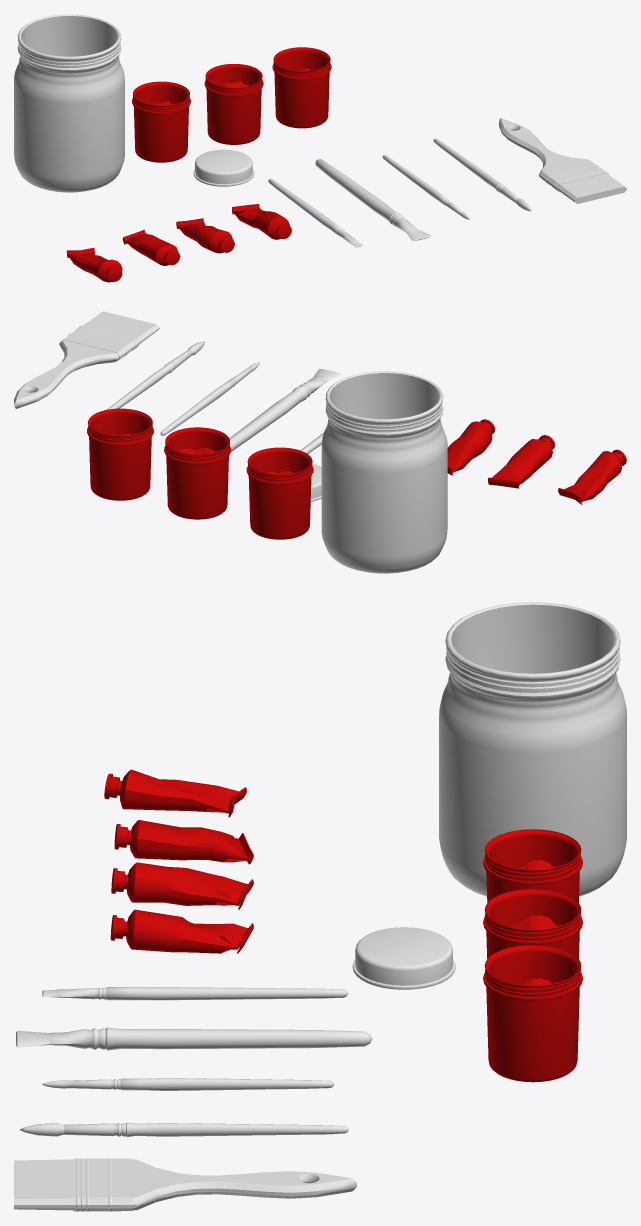
File: Painting Tools.fbx
3 views of the same model, one above another, from view 1: azimuth 30°, elevation 25°; view 2: azimuth 150°, elevation 25°; view 3: azimuth 270°, elevation 25° (orthographic). The views are drawn at different scales.
Parts seen in each view (by area): view 1: Plastic_Can, Can_Guash_3, Can_Guash_2, Can_Guash_1, Brush_5, Can_Guash_Top, Brush_2, Tube_3, Tube_2, Tube_1, Tube_4, Brush_4 (+2 smaller); view 2: Plastic_Can, Can_Guash_1, Can_Guash_2, Can_Guash_3, Brush_5, Brush_2, Tube_1, Tube_4, Tube_2, Brush_4, Brush_3, Can_Guash_Top; view 3: Plastic_Can, Can_Guash_3, Brush_5, Brush_2, Can_Guash_1, Can_Guash_2, Can_Guash_Top, Tube_2, Tube_3, Tube_1, Tube_4, Brush_4 (+2 smaller).
Part boxes in pixels (<box>): Plastic_Can: <box>14,14,124,192</box>; Can_Guash_3: <box>272,47,331,128</box>; Can_Guash_2: <box>204,64,263,144</box>; Can_Guash_1: <box>132,81,190,162</box>; Brush_5: <box>499,118,626,203</box>; Can_Guash_Top: <box>193,149,254,186</box>; Brush_2: <box>315,159,431,240</box>; Tube_3: <box>232,204,291,239</box>; Tube_2: <box>176,218,234,253</box>; Tube_1: <box>122,229,180,265</box>; Tube_4: <box>66,247,122,282</box>; Brush_4: <box>433,138,531,211</box>; Plastic_Can: <box>321,371,447,573</box>; Can_Guash_1: <box>246,447,313,539</box>; Can_Guash_2: <box>164,427,231,519</box>; Can_Guash_3: <box>87,408,153,500</box>; Brush_5: <box>14,311,159,408</box>; Brush_2: <box>229,369,341,451</box>; Tube_1: <box>488,435,555,488</box>; Tube_4: <box>558,449,626,504</box>; Tube_2: <box>447,419,495,475</box>; Brush_4: <box>106,341,204,409</box>; Brush_3: <box>160,362,259,435</box>; Can_Guash_Top: <box>310,463,321,501</box>; Plastic_Can: <box>439,602,626,896</box>; Can_Guash_3: <box>483,945,582,1082</box>; Brush_5: <box>14,1158,356,1211</box>; Brush_2: <box>16,1027,372,1050</box>; Can_Guash_1: <box>483,829,582,903</box>; Can_Guash_2: <box>483,889,582,959</box>; Can_Guash_Top: <box>352,927,455,989</box>; Tube_2: <box>111,862,253,909</box>; Tube_3: <box>110,909,253,953</box>; Tube_1: <box>114,820,253,864</box>; Tube_4: <box>104,769,246,817</box>; Brush_4: <box>19,1122,348,1136</box>.
Bounding box in the file's own units: 90 × 25.28 × 57.07.
